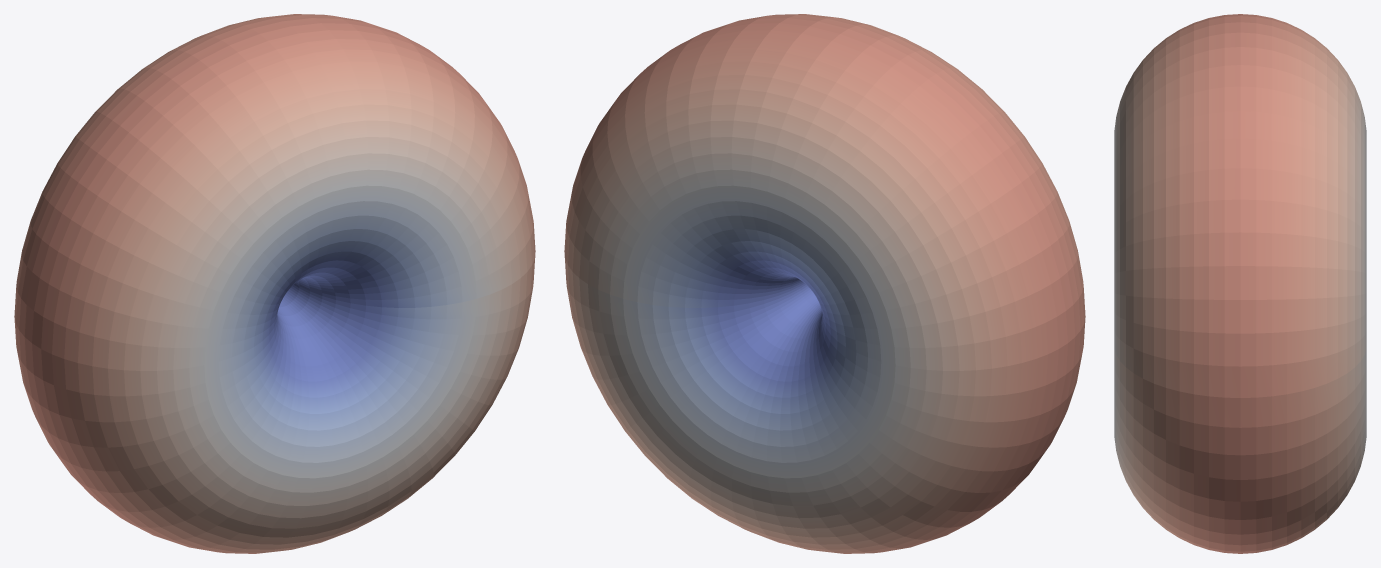
3 renders of one model, left to right at view 1: azimuth 30°, elevation 25°; view 2: azimuth 150°, elevation 25°; view 3: azimuth 270°, elevation 25°, orthographic. The views are drawn at different scales.
Parts seen in each view (by area): view 1: world; view 2: world; view 3: world.
Boxes of the visible parts, <box> form: world: <box>14,14,535,553</box>; world: <box>564,14,1085,553</box>; world: <box>1114,14,1366,553</box>.
Bounding box in the file's own units: 21.33 × 21.29 × 9.98.
